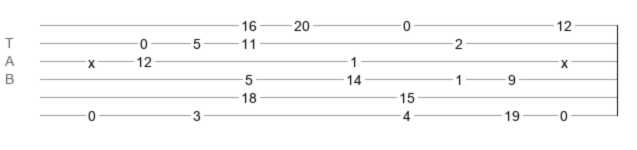0: (88, 108, 96, 118), (140, 36, 148, 46), (403, 18, 411, 28), (560, 108, 568, 118)
1: (350, 54, 358, 64), (455, 72, 463, 82)
11: (241, 36, 257, 46)
12: (136, 54, 152, 64), (556, 18, 572, 28)
14: (346, 72, 362, 82)
15: (399, 90, 415, 100)
16: (241, 18, 257, 28)
18: (241, 90, 257, 100)
19: (504, 108, 520, 118)
2: (455, 36, 463, 46)
20: (294, 18, 310, 28)
3: (193, 108, 201, 118)
4: (403, 108, 411, 118)
5: (193, 36, 201, 46), (245, 72, 253, 82)
9: (508, 72, 516, 82)
x: (88, 55, 95, 63), (561, 55, 568, 63)
